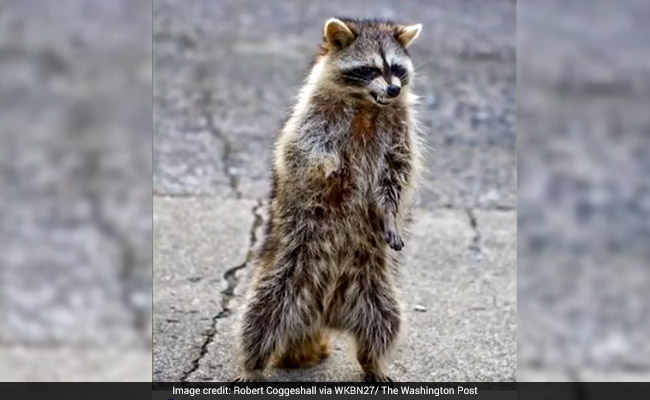raccoon: (199, 13, 437, 399)
